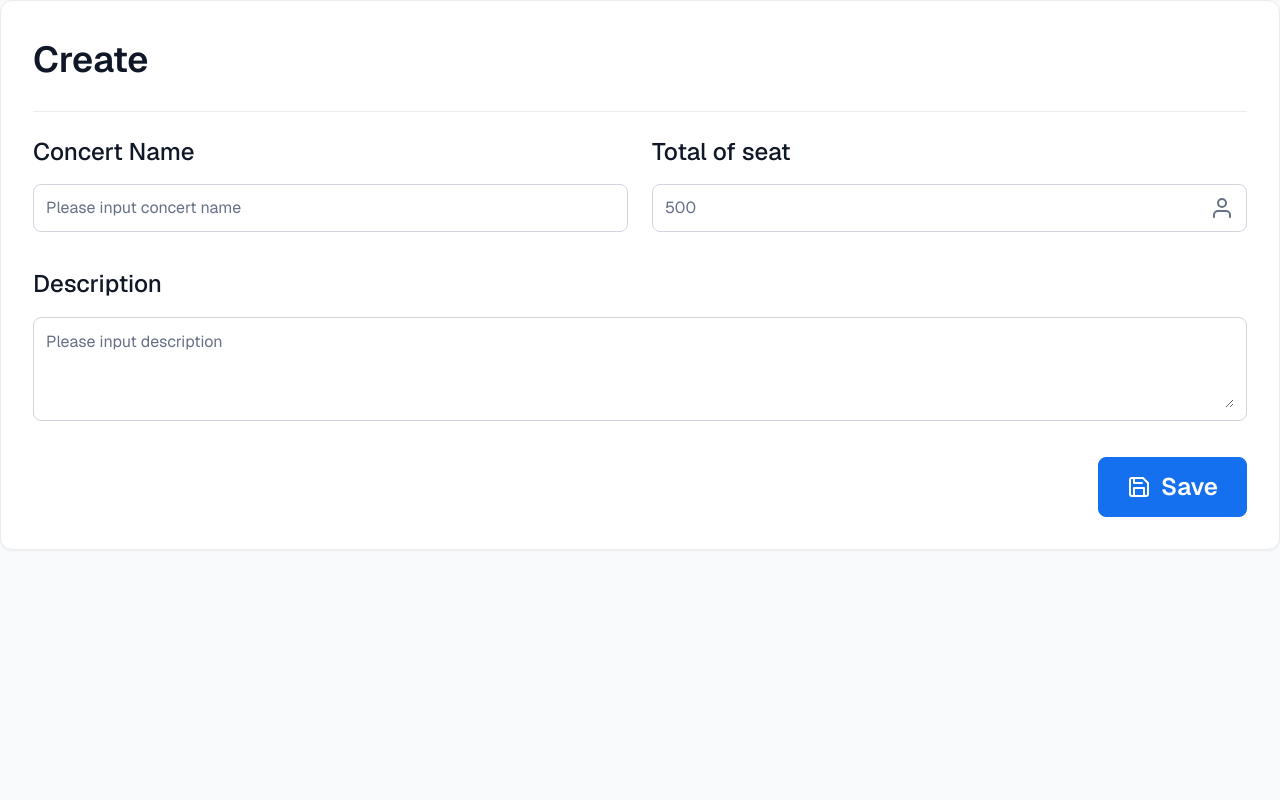
ConcertForm › shows validation errors for all required fields and does not submit
Click the button "Save". click: (1173,487)
box: left=1098, top=457, right=1247, bottom=517
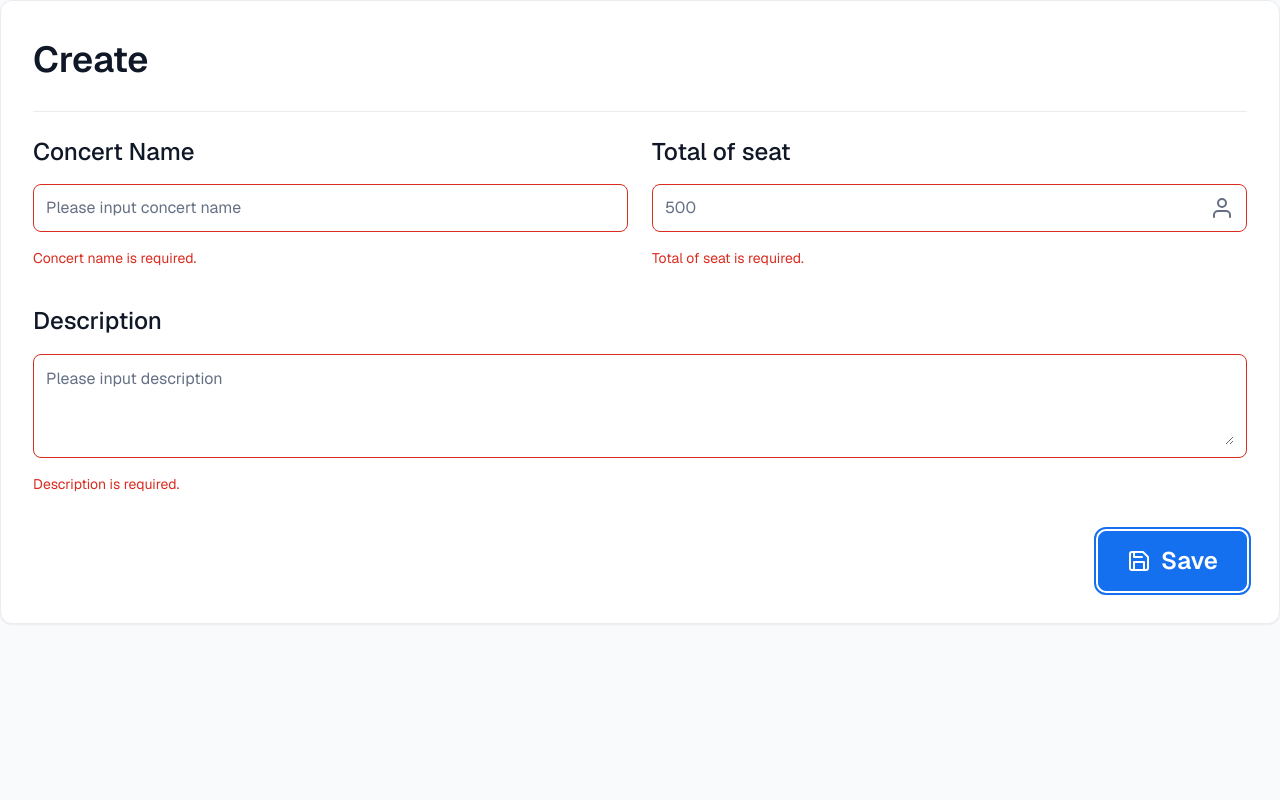
Now the text "Concert name is required." is shown, box left=33, top=249, right=196, bottom=267
Now the text "Total of seat is required." is shown, box left=652, top=249, right=804, bottom=267
Now the text "Description is required." is shown, box left=33, top=475, right=179, bottom=493
